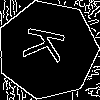K: (22, 25, 75, 67)
